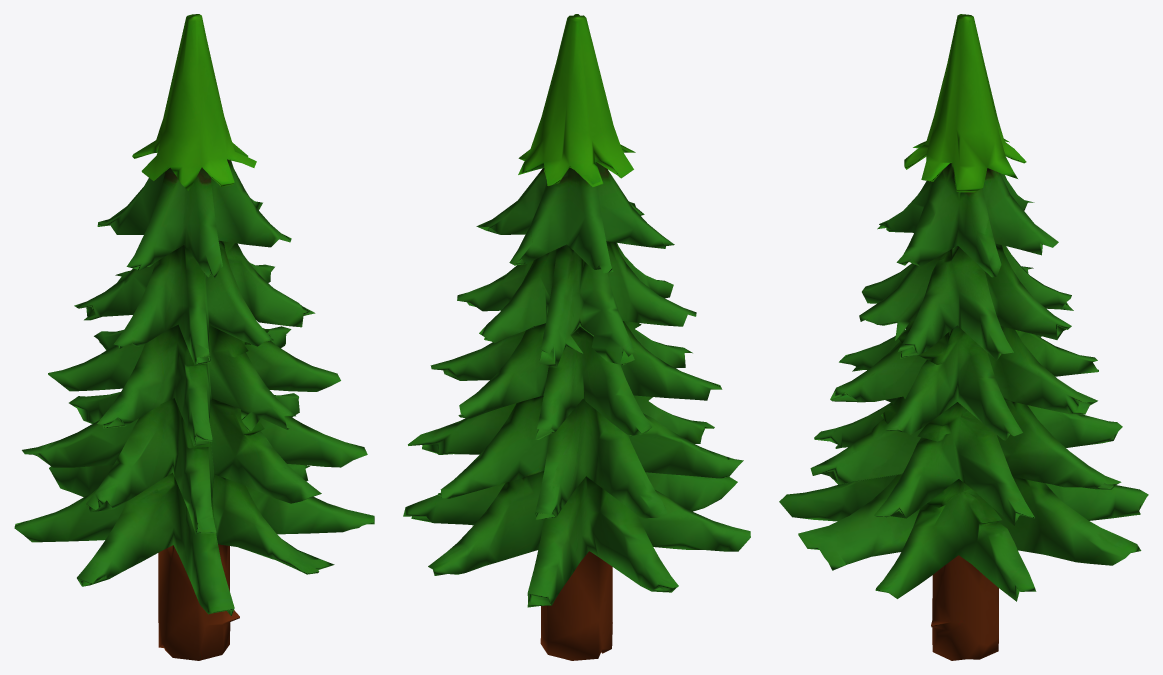
File: tree.glb
3 views of the same model, side by side, from view 1: azimuth 30°, elevation 25°; view 2: azimuth 150°, elevation 25°; view 3: azimuth 270°, elevation 25° (orthographic).
Parts seen in each view (by area): view 1: tripo_node_fac4a433-4392-41f2-ac4e-024ea1630cd0; view 2: tripo_node_fac4a433-4392-41f2-ac4e-024ea1630cd0; view 3: tripo_node_fac4a433-4392-41f2-ac4e-024ea1630cd0.
Boxes of the visible parts, x1,y1,x2,y2 form: tripo_node_fac4a433-4392-41f2-ac4e-024ea1630cd0: (14,14,374,660); tripo_node_fac4a433-4392-41f2-ac4e-024ea1630cd0: (403,14,750,660); tripo_node_fac4a433-4392-41f2-ac4e-024ea1630cd0: (779,14,1148,660).
Bounding box in the file's own units: 0.4815 × 1 × 0.5321.
1 material, 1 textured.
